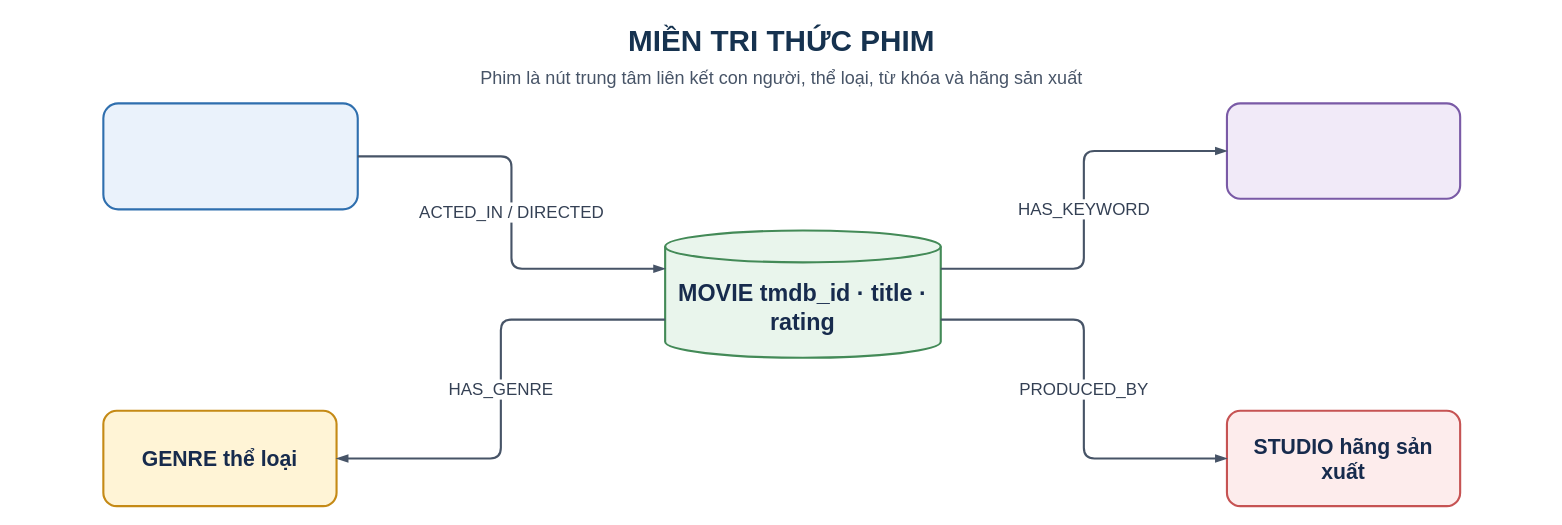
This 1562x525 diagram has some shape labels left out. Each missing label, with the centre of its shape:
"KEYWORD chủ đề" belongs at pixel 1343 150.
"PERSON diễn viên / đạo diễn" belongs at pixel 230 156.
